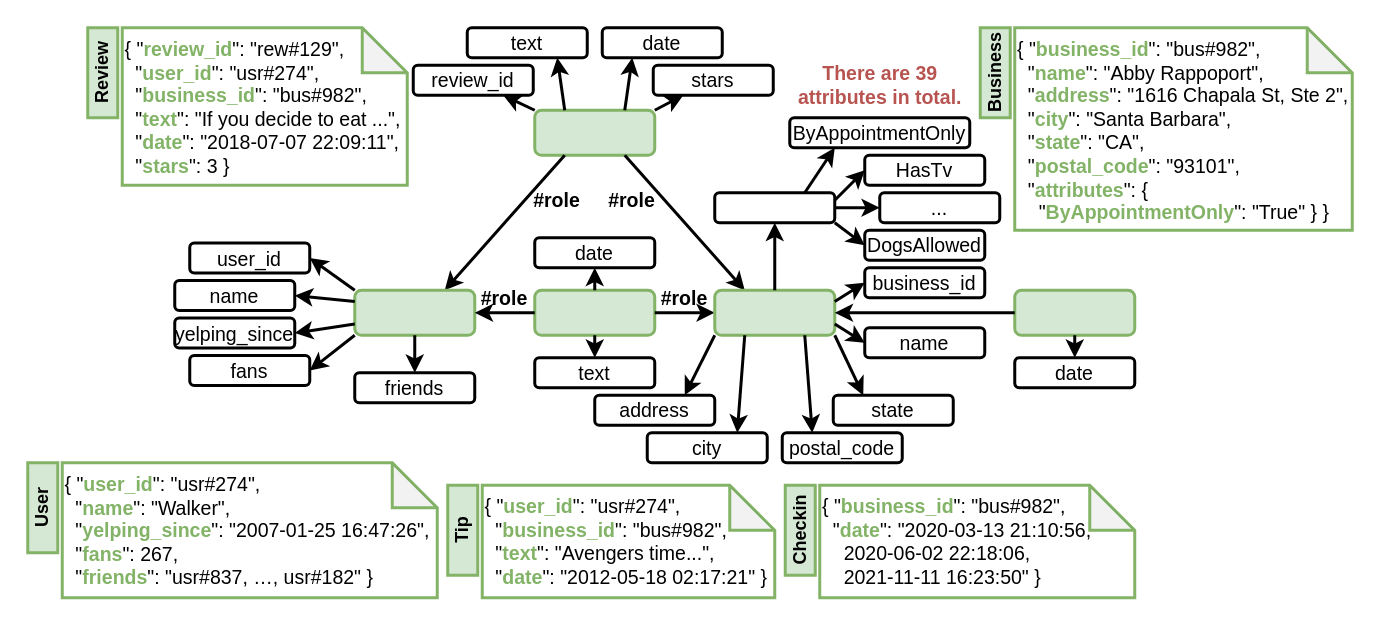
Some shapes in this 1379 by 624 pixel diagram are drawn without their labels. Here are the shapes that lost their labels. From the top down, the centre of each, then its label:
At (x=594, y=132): "Review {review_id}".
At (x=774, y=207): "attributes".
At (x=414, y=312): "User {user_id}".
At (x=594, y=312): "Tip {user_id, business_id}".
At (x=774, y=312): "Business {business_id}".
At (x=1074, y=312): "Checkin {business_id}".
